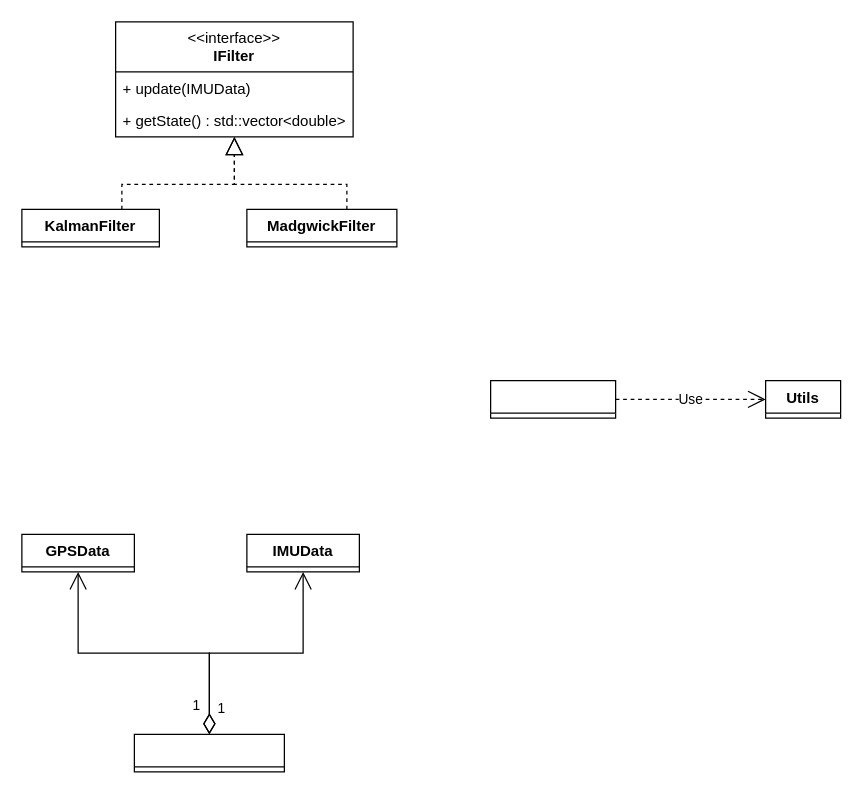
Some shapes in this 863 by 794 pixel diagram are drawn without their labels. Each missing label, with the centre of its shape:
"DataProcessor" belongs at (208,752).
"Navigation" belongs at (552,398).
